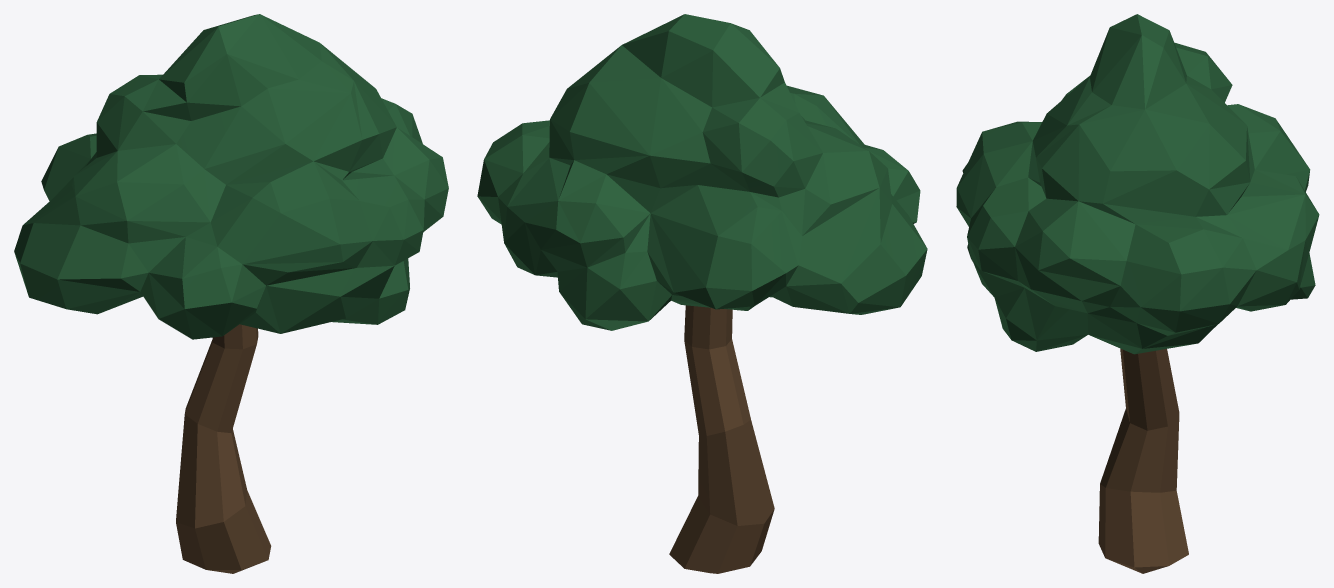
Rendered from tree10.fbx.
3 views of the same model, side by side, from view 1: azimuth 30°, elevation 25°; view 2: azimuth 150°, elevation 25°; view 3: azimuth 270°, elevation 25° (orthographic).
Parts seen in each view (by area): view 1: polySurface2308; view 2: polySurface2308; view 3: polySurface2308.
Part boxes in pixels (box(x1,y1,x2,y2)): polySurface2308: box(14, 14, 448, 573); polySurface2308: box(477, 14, 927, 573); polySurface2308: box(956, 14, 1319, 573).
Bounding box in the file's own units: 292 × 376 × 224.
